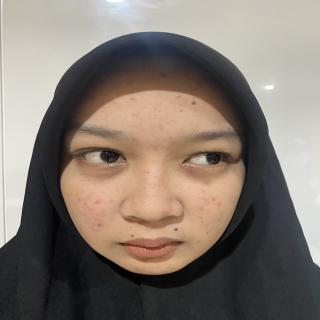Takut: (42, 55, 252, 280)
